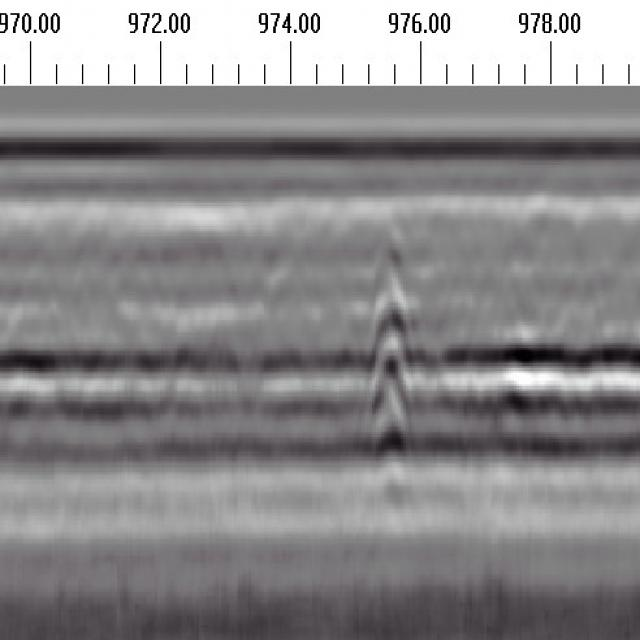crack: (364, 219, 412, 498)
